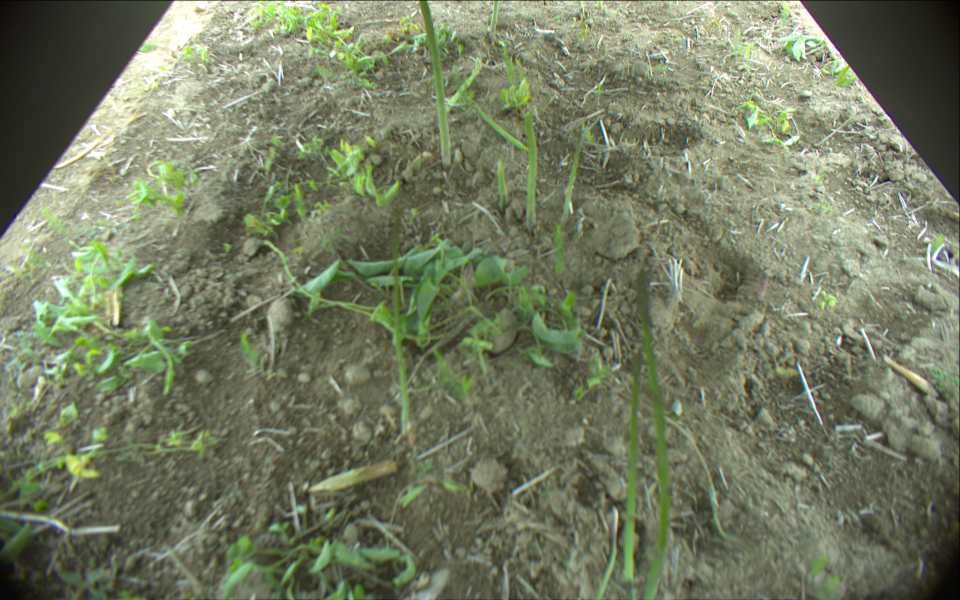aspa: (633, 268, 672, 600), (419, 1, 452, 168), (389, 209, 413, 430), (623, 350, 642, 580), (464, 97, 527, 152), (309, 459, 398, 490), (445, 56, 483, 111), (521, 110, 538, 230), (562, 135, 583, 227), (496, 161, 507, 207), (490, 1, 498, 30)
